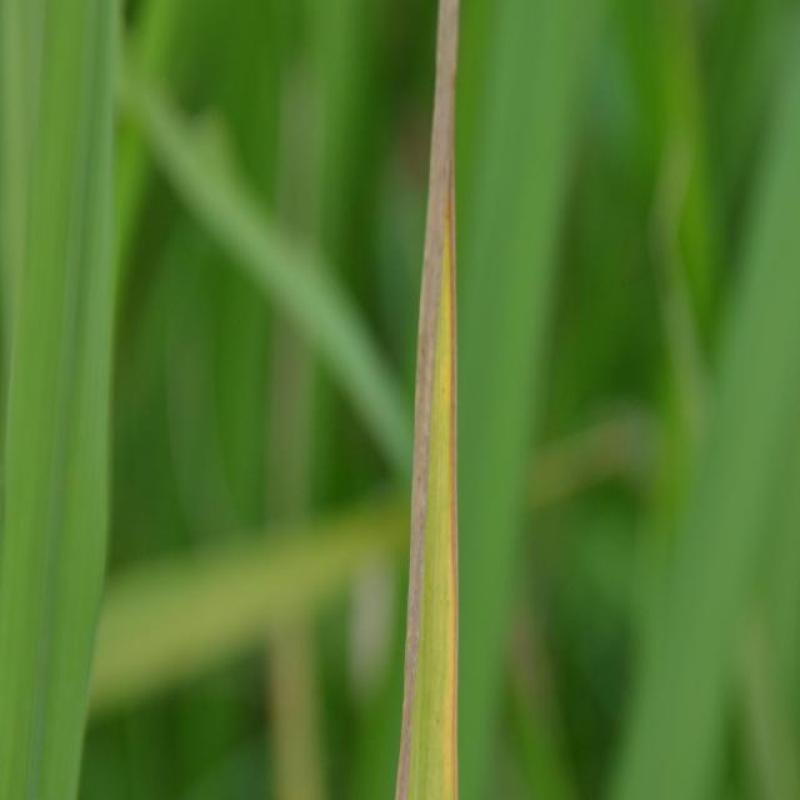Rice Tungro: (390, 184, 492, 800)
